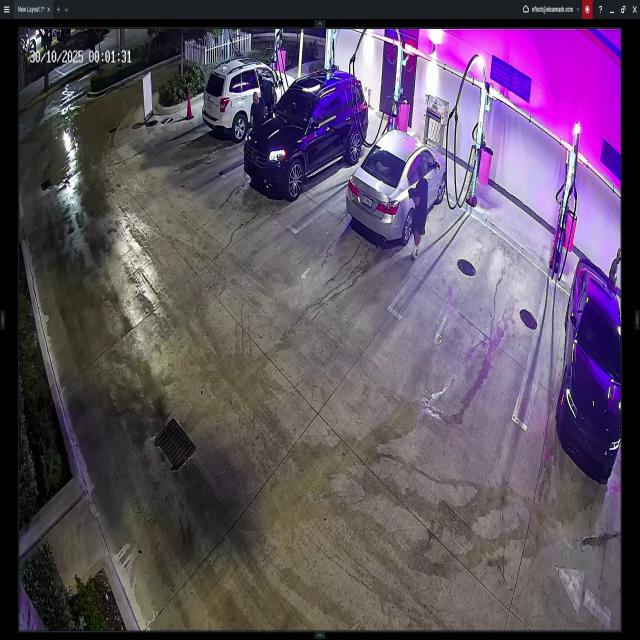Car: (245, 65, 368, 204), (564, 255, 622, 485), (348, 115, 448, 242), (202, 55, 302, 139)
